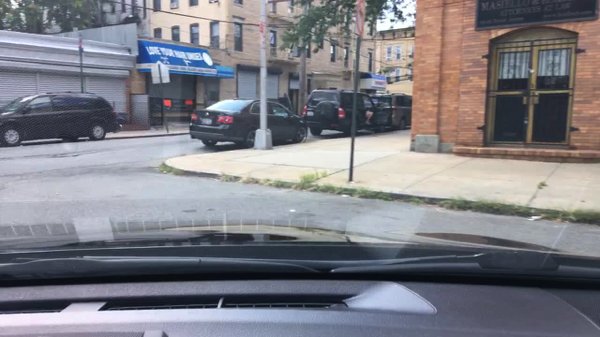car: (1, 91, 127, 148), (189, 97, 308, 149), (302, 90, 392, 138), (383, 91, 412, 129), (365, 93, 394, 128)
traffic sign: (353, 2, 367, 40), (151, 61, 170, 84), (352, 71, 359, 90)
